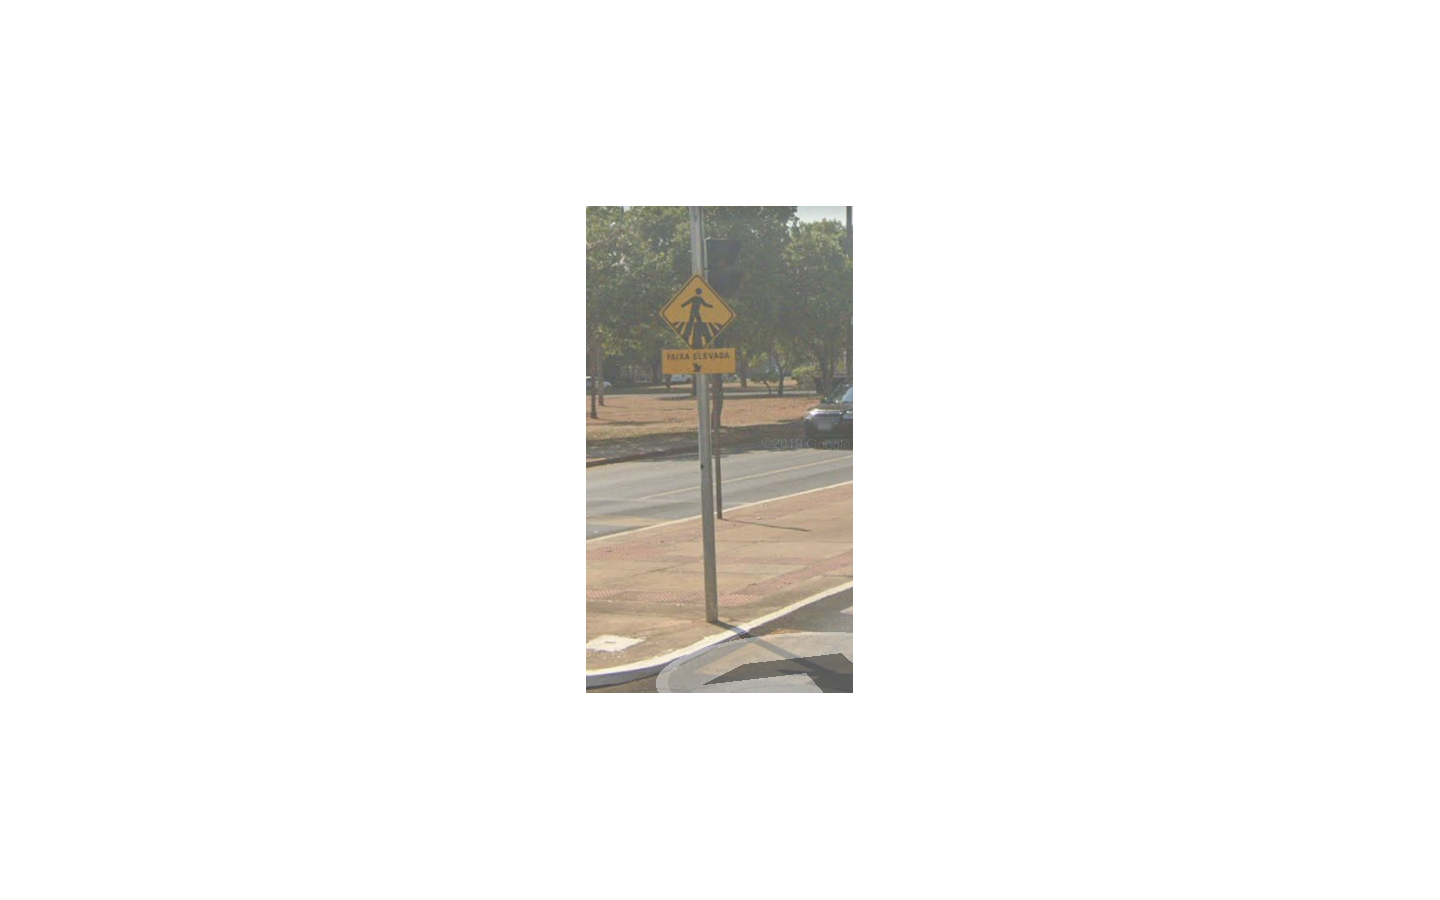telev: (660, 274, 736, 376)
